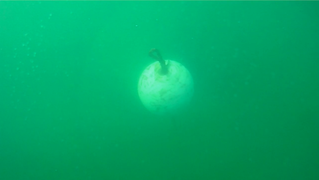buoy: (137, 59, 195, 117)
